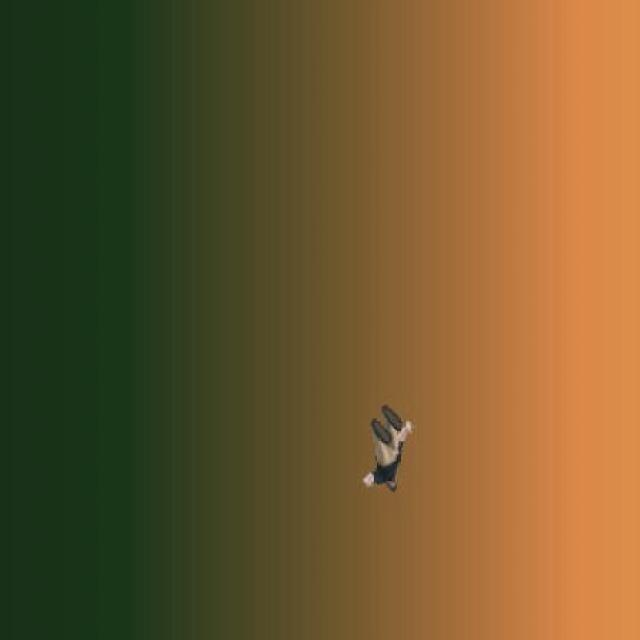Person: (362, 400, 416, 491)
